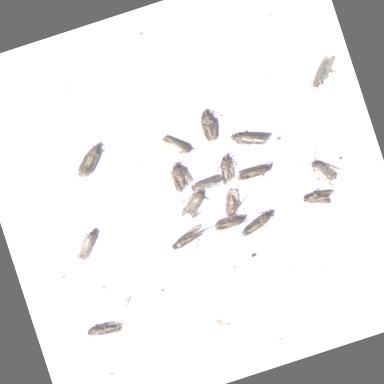pbw: (292, 139, 346, 196), (159, 147, 205, 196), (64, 142, 111, 186), (158, 123, 211, 161), (174, 182, 224, 218), (298, 53, 342, 92), (209, 184, 254, 222), (196, 102, 236, 144), (164, 219, 207, 251), (200, 208, 248, 236), (70, 228, 108, 262), (208, 152, 242, 188), (230, 124, 270, 154), (235, 162, 276, 191), (237, 210, 277, 238), (302, 186, 338, 214), (86, 318, 125, 340), (188, 173, 224, 194)
